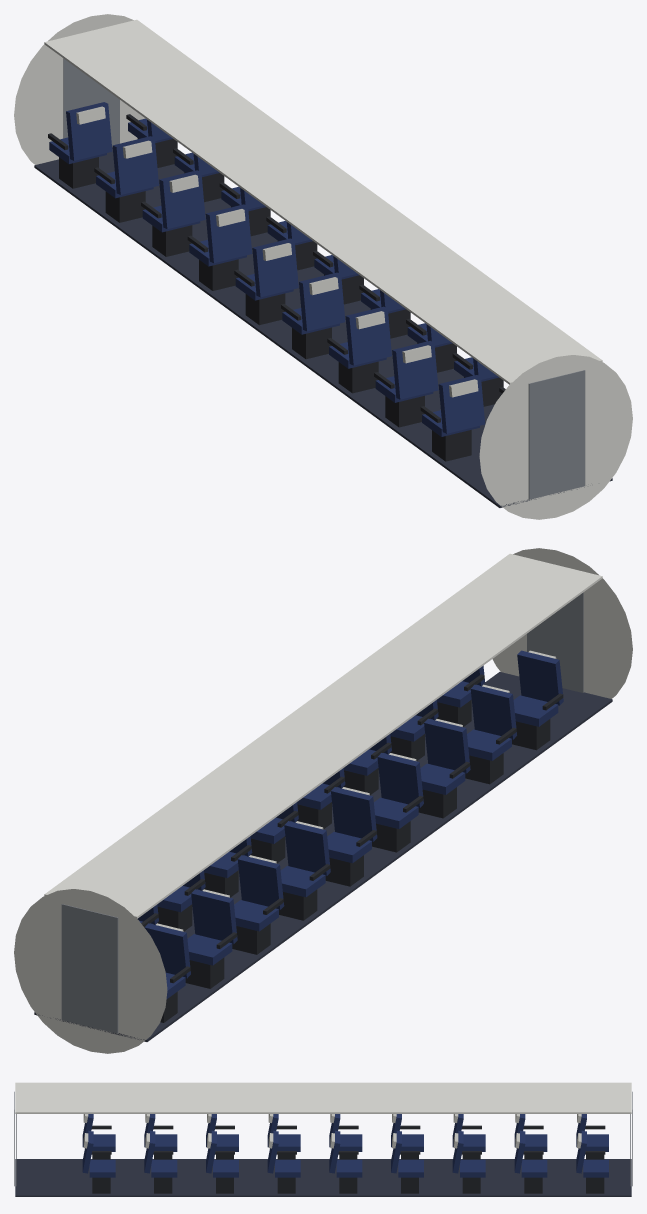
File: lat_bizjet_cabin.dae
3 renders of one model, top to bottom at view 1: azimuth 30°, elevation 25°; view 2: azimuth 150°, elevation 25°; view 3: azimuth 270°, elevation 25°, orthographic. The views are drawn at different scales.
Visible parts, largest first — view 1: lat_bizjet_cabin64; view 2: lat_bizjet_cabin64; view 3: lat_bizjet_cabin64.
Boxes of the visible parts, box(x1,y1,x2,y2) form: lat_bizjet_cabin64: box(14, 14, 632, 519); lat_bizjet_cabin64: box(14, 548, 632, 1053); lat_bizjet_cabin64: box(14, 1082, 632, 1196).
Size of the model in its own units: 2.19 by 11.54 by 2.19.
